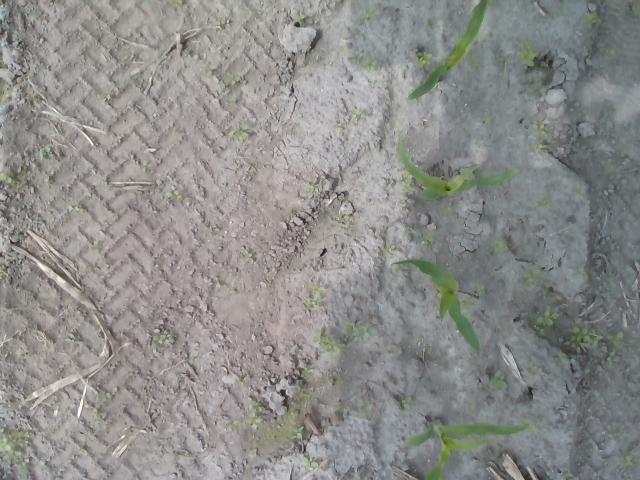Maize: (390, 257, 482, 354), (402, 416, 540, 480), (407, 0, 489, 99), (398, 142, 522, 202)
Weeds: (558, 324, 602, 364), (0, 431, 32, 470), (314, 330, 342, 359), (534, 308, 562, 334), (304, 285, 326, 311), (348, 320, 369, 343), (523, 267, 543, 289), (520, 42, 538, 66), (85, 408, 106, 425), (248, 398, 264, 418), (490, 372, 508, 389), (246, 414, 264, 430), (604, 46, 620, 63), (398, 178, 416, 193), (584, 12, 600, 28), (600, 158, 618, 172), (236, 122, 250, 139), (611, 331, 626, 346), (417, 50, 433, 64), (288, 424, 302, 440), (240, 251, 256, 265), (152, 333, 170, 345), (578, 263, 590, 281), (494, 238, 508, 253), (38, 146, 51, 162), (223, 72, 240, 84), (533, 123, 547, 137), (620, 453, 634, 467), (350, 108, 366, 120), (2, 173, 16, 186), (224, 419, 238, 432), (304, 456, 319, 468), (336, 211, 351, 223), (351, 51, 364, 64), (300, 366, 314, 378), (560, 468, 574, 480), (401, 398, 414, 410), (167, 190, 180, 202), (365, 7, 379, 18), (606, 351, 620, 362), (207, 278, 222, 288), (462, 299, 475, 310), (367, 60, 378, 73), (535, 198, 549, 208), (358, 404, 372, 414), (67, 204, 80, 214), (534, 142, 544, 154), (472, 282, 482, 294), (295, 15, 305, 26), (576, 186, 585, 197), (422, 238, 433, 247), (303, 181, 312, 192), (387, 244, 396, 254), (208, 68, 218, 77), (0, 264, 6, 273)
